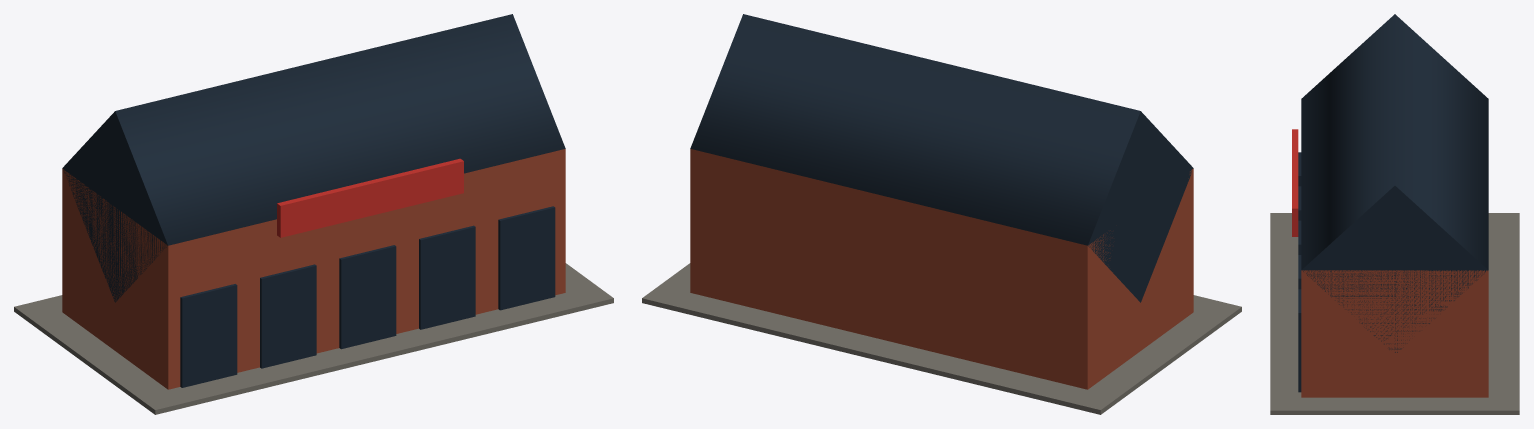
Rendered from bld_special_market_a05_lod2.glb.
The picture shows the model from 3 angles, left to right: view 1: azimuth 30°, elevation 25°; view 2: azimuth 150°, elevation 25°; view 3: azimuth 270°, elevation 25°; orthographic projection. The views are drawn at different scales.
Parts seen in each view (by area): view 1: body; view 2: body; view 3: body.
Boxes of the visible parts, bbox=[...] form: body: bbox=[14, 14, 613, 414]; body: bbox=[642, 14, 1241, 414]; body: bbox=[1270, 14, 1519, 414].
Size of the model in its own units: 15 by 7.65 by 8.
